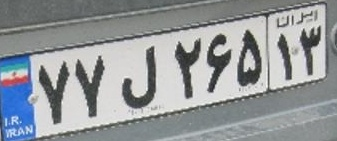character: (115, 39, 160, 112), (71, 52, 109, 122), (35, 59, 71, 129), (169, 33, 204, 104), (233, 23, 265, 88), (204, 29, 233, 98), (298, 23, 322, 78), (274, 32, 296, 82)
